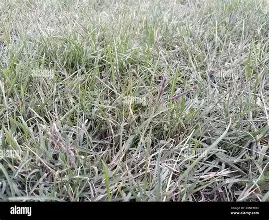weed: (0, 0, 268, 200)
